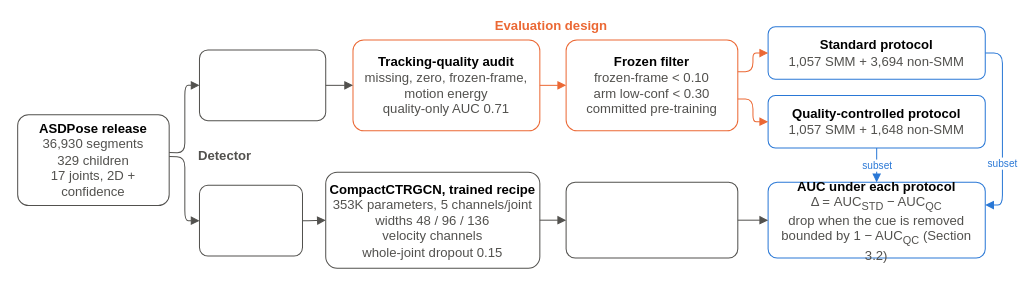
This 1034x286 diagram has some shape labels left out. Here are the shapes that lost their labels. From the top down, the box of each, then its label:
(198, 49, 326, 121): Test split 40 children 4,751 segments
(198, 184, 302, 256): Train split 289 children subject-level
(565, 181, 738, 258): Per-segment scores all 4,751 test segments scored once
